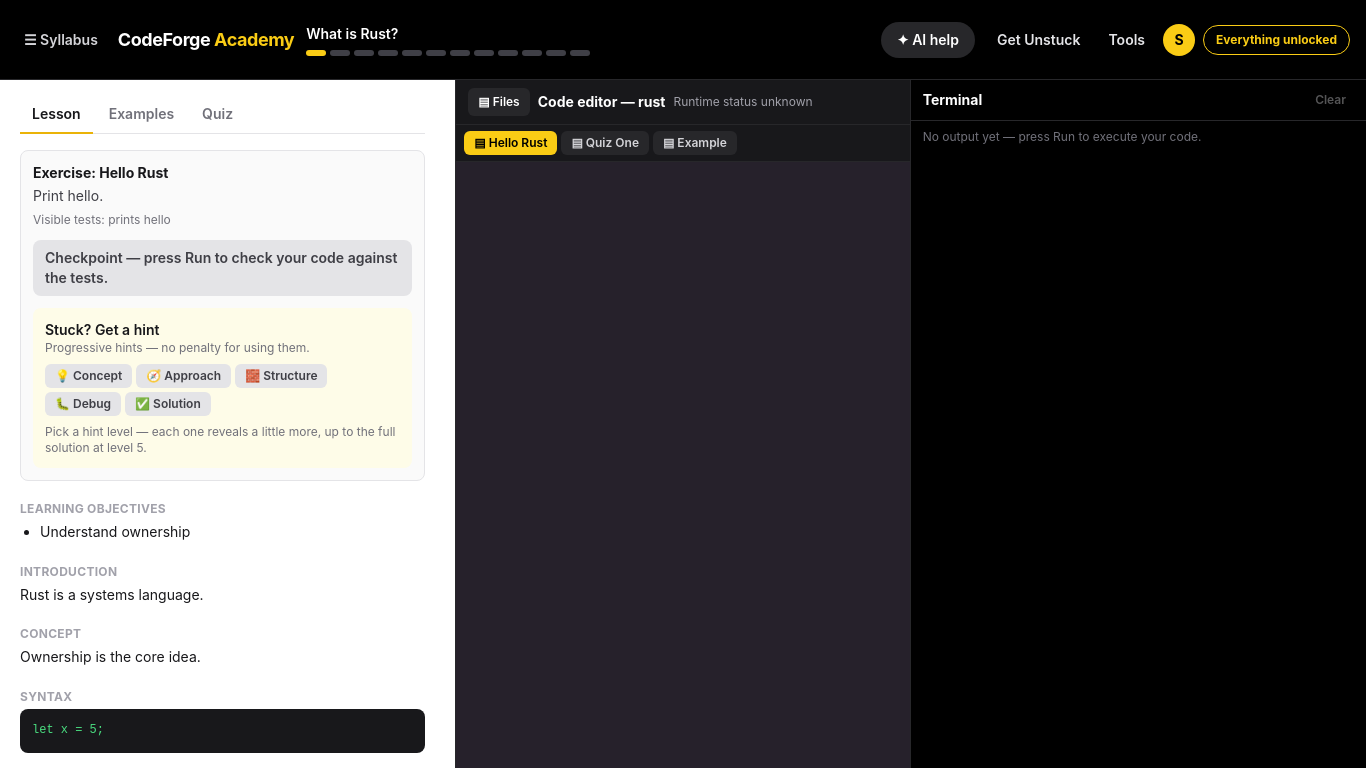
Test: LessonWorkspacePage codecademy-style workspace › keeps Lesson/Examples/Quiz tabs inside Learn
Expected: the list item "Understand ownership" is shown, [40,523,190,540]
What coordinates should you click on to do the following:
click the tab "Examples"
I would click on:
 (141, 115)
Its box is [97,96,186,134].
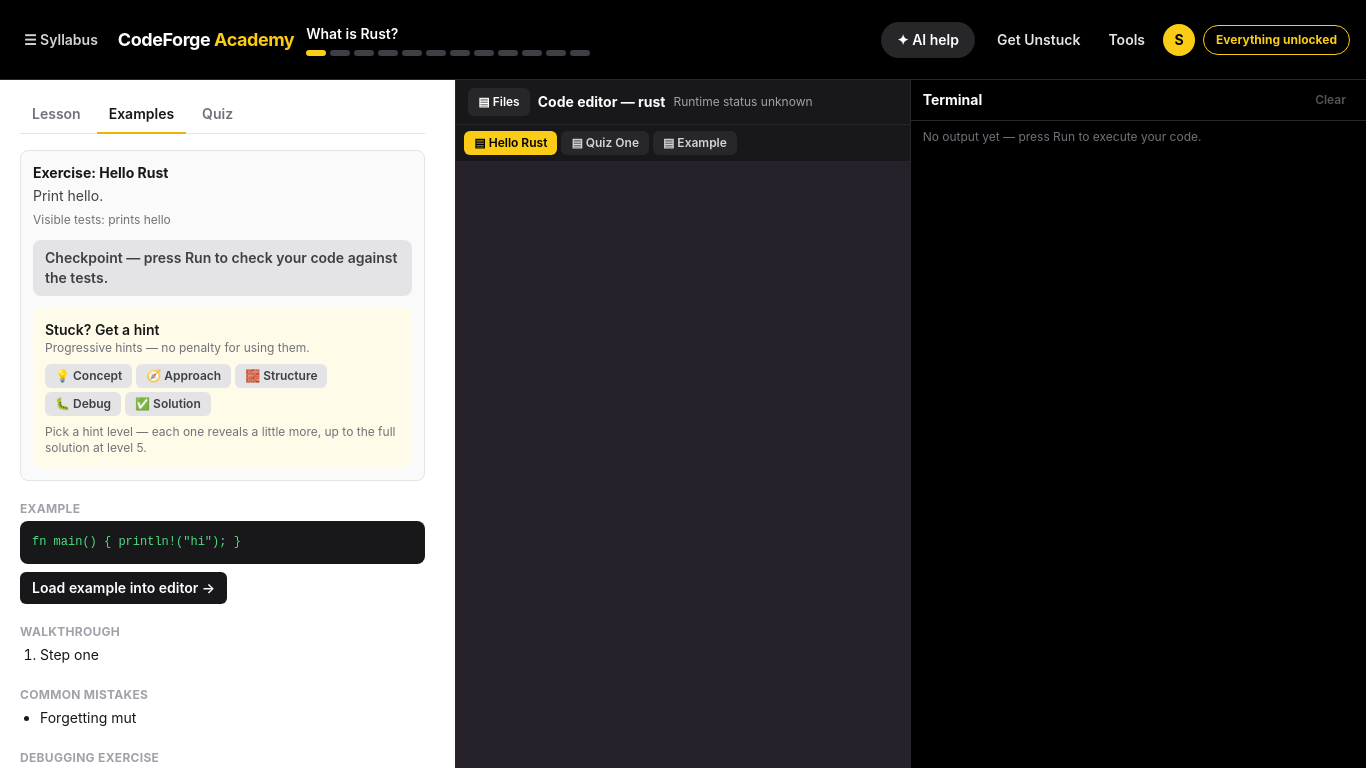
Expected: the list item "Understand ownership" is gone
What coordinates should you click on to do the following:
click the tab "Quiz"
I would click on:
 (218, 115)
Its box is [190,96,245,134].
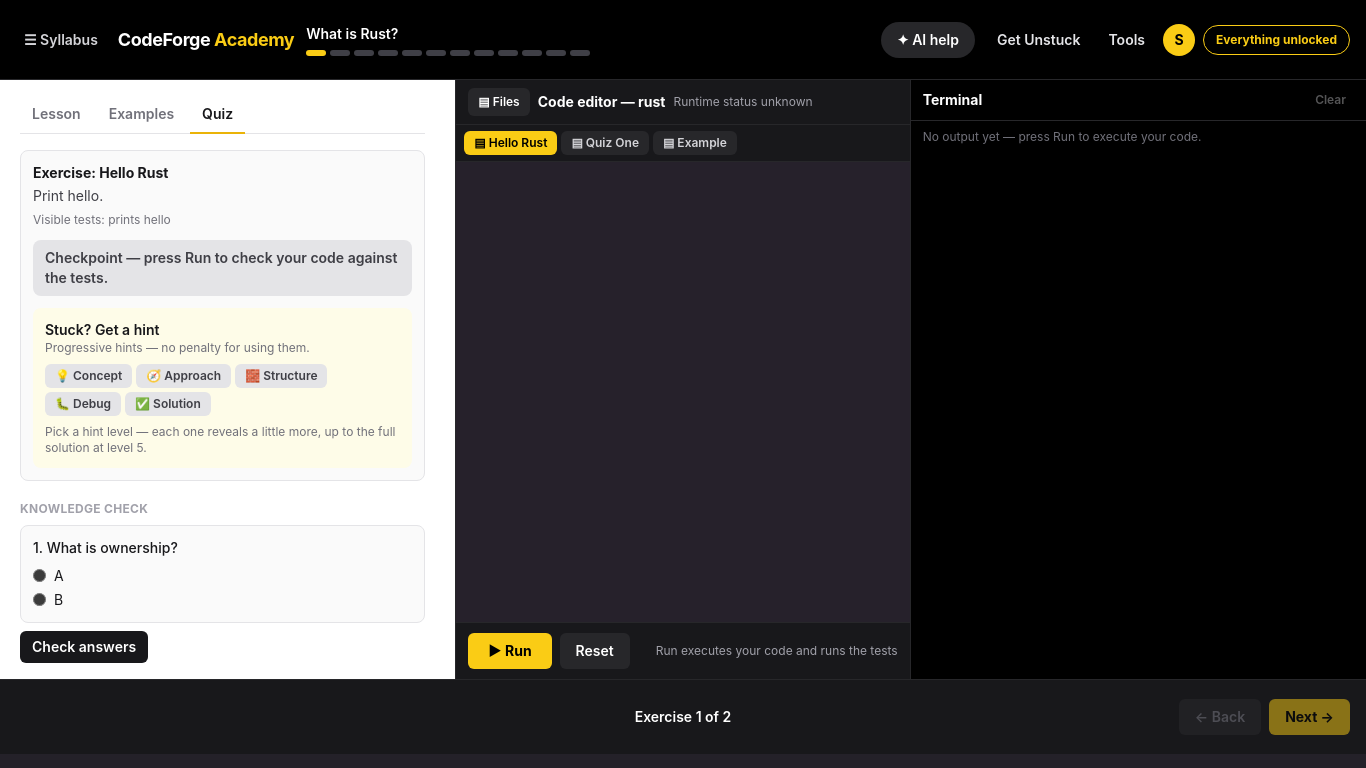
Expected: the text "1. What is ownership?" is shown, [33,539,178,556]
